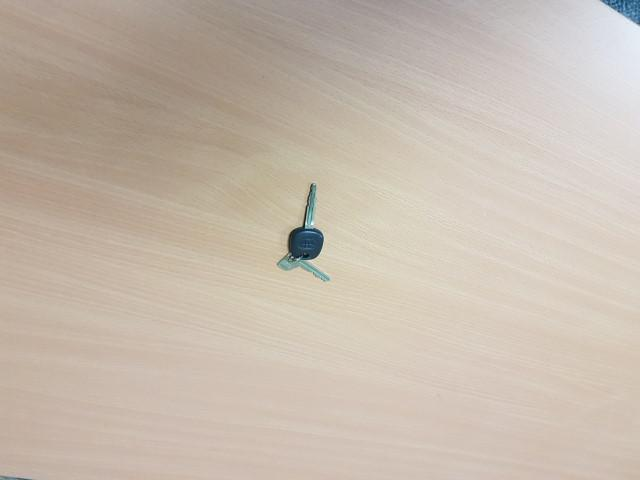key: (288, 183, 324, 260)
